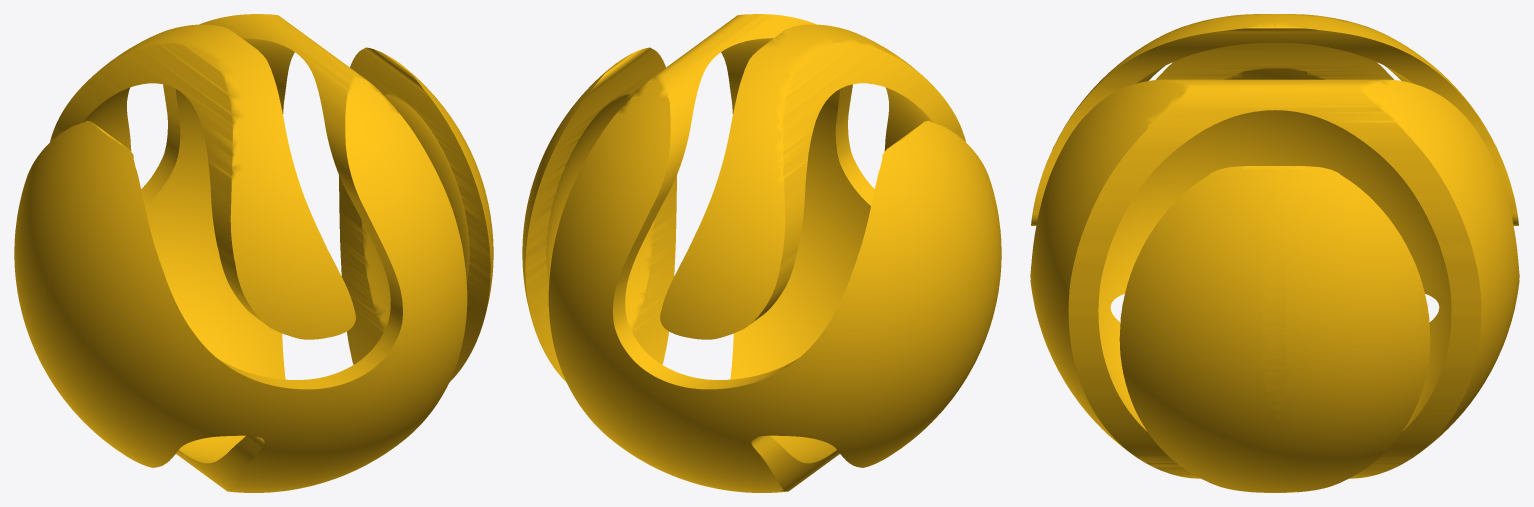
Rendered from sinhala_kw_globe_shell.obj.
The picture shows the model from 3 angles, left to right: view 1: azimuth 30°, elevation 25°; view 2: azimuth 150°, elevation 25°; view 3: azimuth 270°, elevation 25°; orthographic projection. The views are drawn at different scales.
Visible parts, largest first — view 1: SinhalaKW_Globe_Shell; view 2: SinhalaKW_Globe_Shell; view 3: SinhalaKW_Globe_Shell.
Boxes of the visible parts, left/top/right/bottom form: SinhalaKW_Globe_Shell: left=14, top=14, right=493, bottom=492; SinhalaKW_Globe_Shell: left=522, top=14, right=1001, bottom=492; SinhalaKW_Globe_Shell: left=1030, top=14, right=1519, bottom=492.
Bounding box in the file's own units: 2 × 2 × 1.99.
